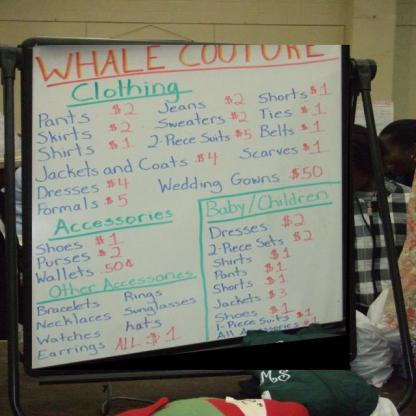Handwritten text: (31, 28, 336, 84), (37, 261, 200, 302), (28, 147, 195, 185), (153, 158, 286, 201), (50, 199, 180, 239), (62, 74, 189, 104), (210, 309, 301, 341), (32, 189, 105, 222), (31, 308, 119, 332), (28, 339, 108, 365), (121, 295, 199, 320), (204, 214, 276, 241), (31, 259, 96, 288), (31, 294, 108, 318), (33, 325, 110, 349), (217, 231, 287, 255), (33, 103, 97, 129), (161, 125, 233, 148), (152, 110, 227, 132), (115, 281, 171, 310), (238, 141, 303, 165), (31, 246, 93, 271), (32, 124, 99, 147), (30, 230, 86, 257), (34, 180, 105, 200), (32, 143, 99, 164), (153, 95, 210, 117), (210, 303, 264, 324), (211, 288, 262, 310), (117, 313, 168, 334), (206, 249, 251, 271), (210, 277, 258, 297), (258, 85, 309, 103), (210, 262, 251, 282), (253, 105, 295, 123), (111, 334, 149, 353), (255, 123, 297, 138)
Whiteboard: (17, 30, 358, 379)
